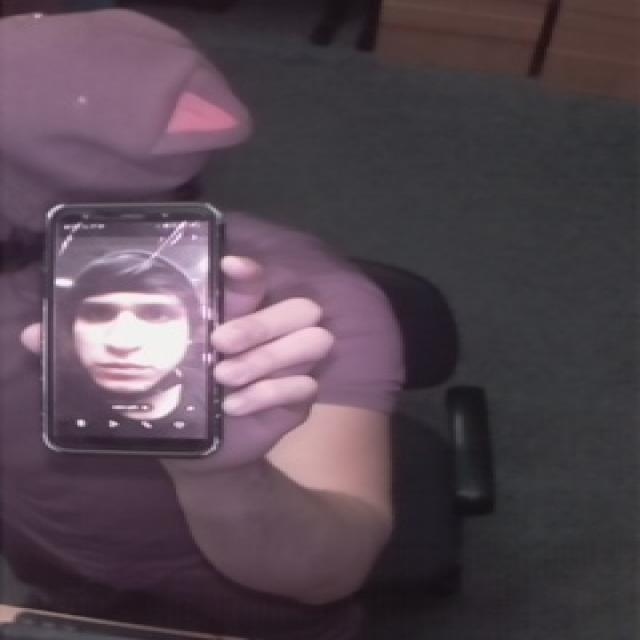phone: (35, 175, 246, 461)
